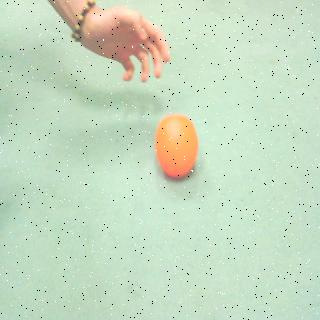orange: (153, 111, 203, 185)
